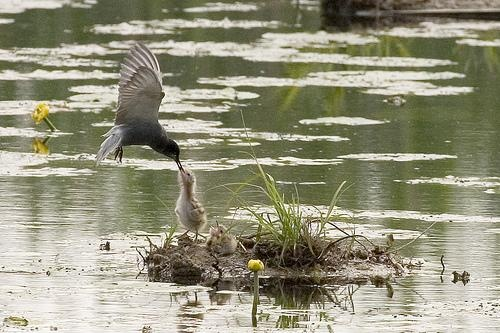bird: (85, 43, 190, 178), (168, 165, 211, 241), (198, 220, 235, 256)
